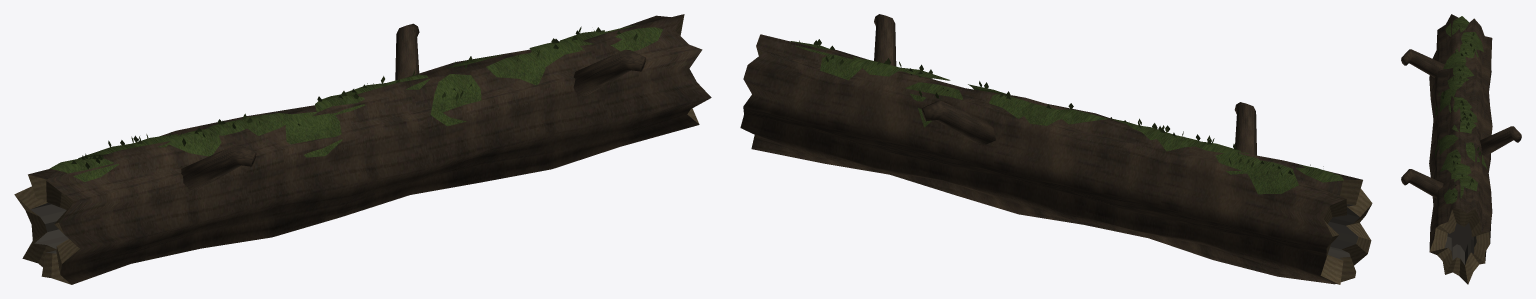
The model's file is mossy-fallen-log3m.glb.
3 views of the same model, side by side, from view 1: azimuth 30°, elevation 25°; view 2: azimuth 150°, elevation 25°; view 3: azimuth 270°, elevation 25° (orthographic). The views are drawn at different scales.
Visible parts, largest first — view 1: mossy-fallen-log3m / bark, mossy-fallen-log3m / moss, mossy-fallen-log3m / wood, mossy-fallen-log3m / dark; view 2: mossy-fallen-log3m / bark, mossy-fallen-log3m / moss, mossy-fallen-log3m / wood, mossy-fallen-log3m / dark; view 3: mossy-fallen-log3m / bark, mossy-fallen-log3m / moss, mossy-fallen-log3m / wood, mossy-fallen-log3m / dark.
Part boxes in pixels (<box>): mossy-fallen-log3m / bark: <box>28,14,711,284</box>; mossy-fallen-log3m / moss: <box>50,24,662,181</box>; mossy-fallen-log3m / wood: <box>14,14,698,284</box>; mossy-fallen-log3m / dark: <box>30,203,68,253</box>; mossy-fallen-log3m / bark: <box>740,14,1362,284</box>; mossy-fallen-log3m / moss: <box>791,39,1343,194</box>; mossy-fallen-log3m / wood: <box>751,46,1372,284</box>; mossy-fallen-log3m / dark: <box>1327,204,1359,260</box>; mossy-fallen-log3m / bark: <box>1401,14,1521,260</box>; mossy-fallen-log3m / moss: <box>1435,16,1487,203</box>; mossy-fallen-log3m / wood: <box>1429,209,1489,284</box>; mossy-fallen-log3m / dark: <box>1444,223,1476,264</box>.
Size of the model in its own units: 3 by 0.6 by 0.77.
4 materials, 3 textured.
